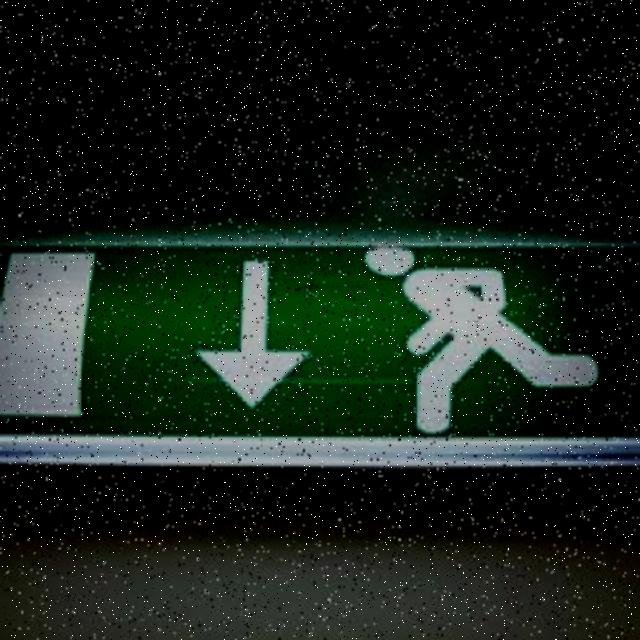emergency_exit: (1, 233, 639, 467)
